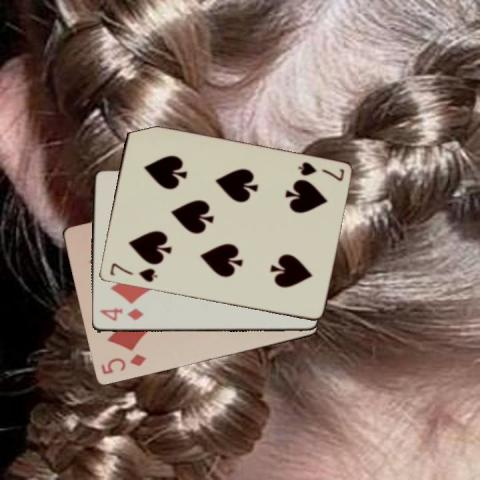4d: (96, 306, 145, 323)
5d: (97, 351, 147, 376)
7s: (107, 260, 158, 284), (294, 159, 345, 183)
